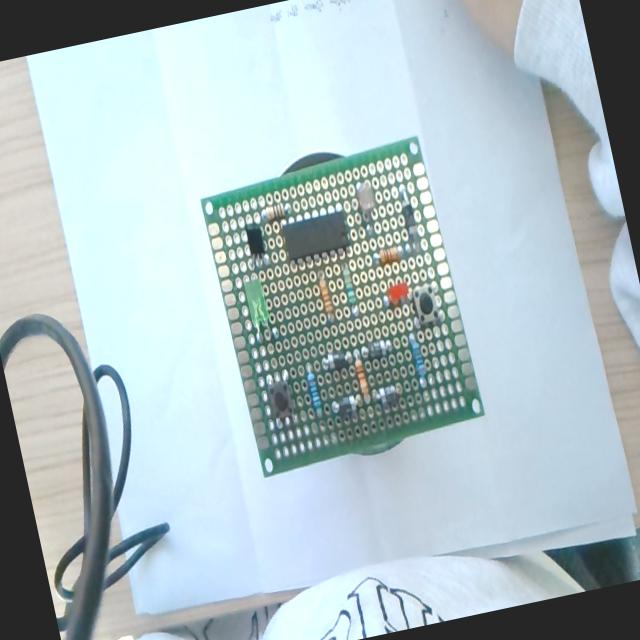IC: (278, 207, 354, 265)
cds: (351, 176, 383, 228)
diode: (398, 188, 422, 250), (331, 394, 360, 424), (376, 383, 402, 412), (362, 338, 392, 362), (320, 350, 350, 374)
led: (237, 276, 278, 348), (382, 282, 414, 312)
resistor: (371, 239, 418, 269), (407, 332, 429, 386), (338, 256, 358, 310), (317, 272, 335, 318), (353, 354, 370, 398), (305, 370, 322, 410), (260, 202, 284, 224)
switch: (262, 370, 298, 428), (407, 284, 444, 329)
transistor: (235, 220, 272, 270)
